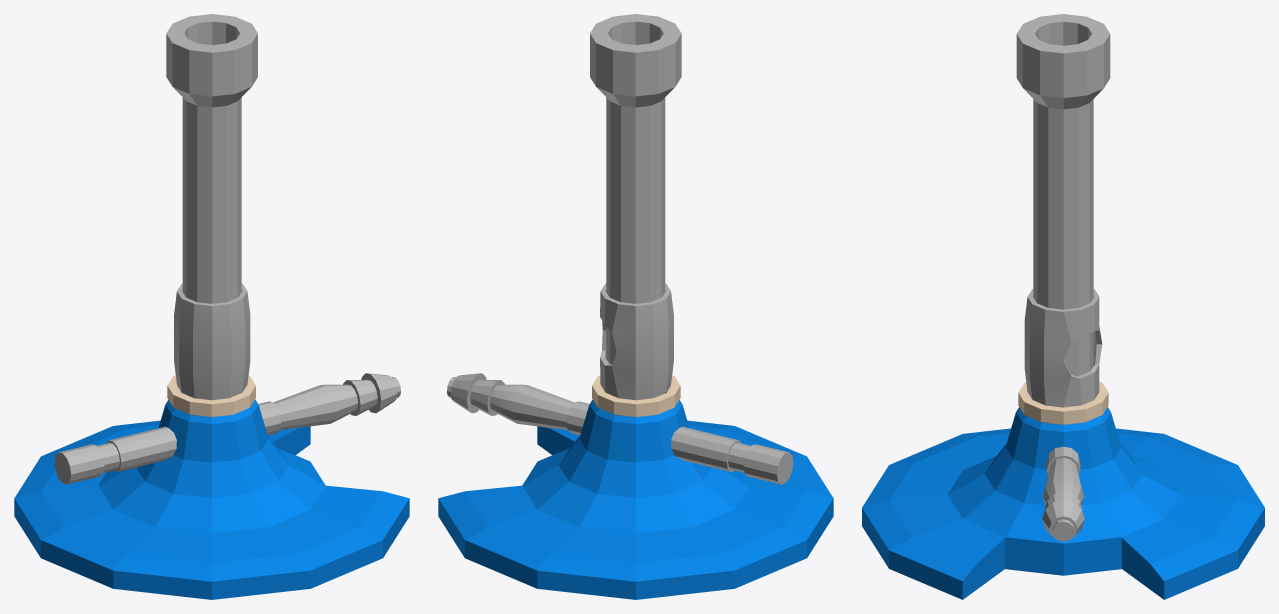
Rendered from bunsen_burner_new.fbx.
The picture shows the model from 3 angles, left to right: view 1: azimuth 30°, elevation 25°; view 2: azimuth 150°, elevation 25°; view 3: azimuth 270°, elevation 25°; orthographic projection.
Visible parts, largest first — view 1: bunsen_base, long_tube, connectors, tube_opening, screw; view 2: bunsen_base, long_tube, connectors, tube_opening, screw; view 3: bunsen_base, long_tube, tube_opening, connectors, screw.
Boxes of the visible parts, bbox=[...] form: bunsen_base: bbox=[14, 391, 409, 599]; long_tube: bbox=[166, 14, 257, 417]; connectors: bbox=[54, 373, 400, 484]; tube_opening: bbox=[174, 283, 250, 399]; screw: bbox=[167, 375, 255, 416]; bunsen_base: bbox=[438, 391, 833, 599]; long_tube: bbox=[590, 14, 681, 417]; connectors: bbox=[447, 373, 793, 484]; tube_opening: bbox=[600, 283, 673, 399]; screw: bbox=[592, 375, 680, 416]; bunsen_base: bbox=[862, 407, 1264, 599]; long_tube: bbox=[1016, 14, 1110, 424]; tube_opening: bbox=[1024, 289, 1102, 407]; connectors: bbox=[1042, 446, 1084, 541]; screw: bbox=[1018, 381, 1108, 424].
Size of the model in its own units: 50.55 by 65.75 by 48.75.
